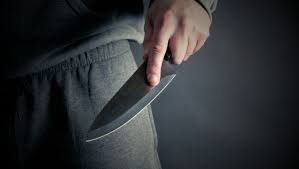knife: (85, 31, 203, 142)
